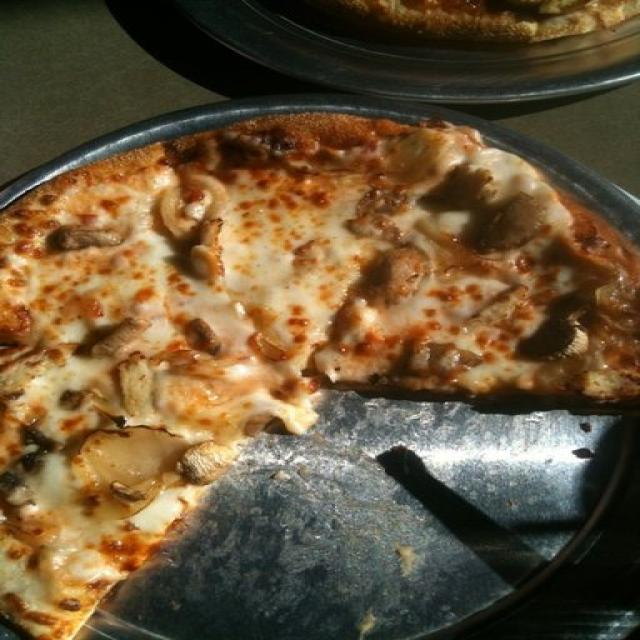Mushrooms: (77, 434, 226, 498), (154, 193, 230, 277), (479, 188, 548, 246), (370, 242, 425, 306), (537, 351, 606, 400), (378, 136, 458, 174), (76, 316, 147, 358), (430, 166, 490, 210), (352, 190, 408, 237), (111, 362, 161, 412), (400, 344, 476, 376), (533, 320, 593, 358), (178, 317, 223, 352), (51, 224, 129, 243), (253, 335, 309, 359)
Pizza: (0, 114, 640, 640), (335, 0, 633, 39)
